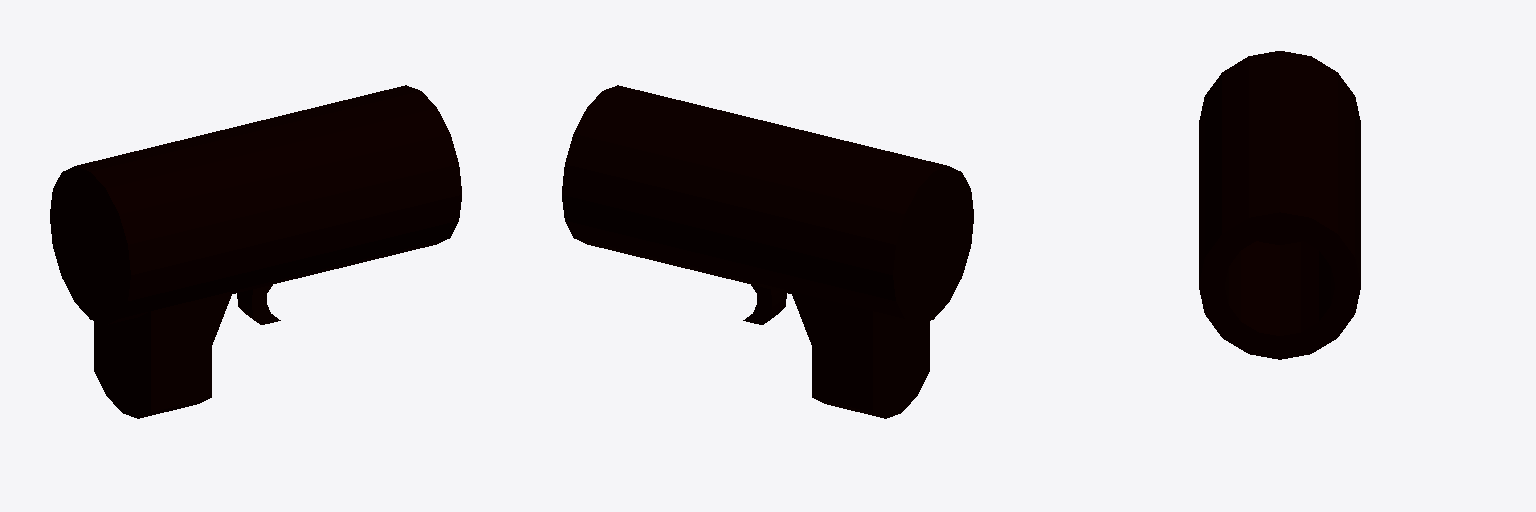
File: Pistol.obj
The picture shows the model from 3 angles: view 1: azimuth 30°, elevation 25°; view 2: azimuth 150°, elevation 25°; view 3: azimuth 270°, elevation 25°; orthographic projection.
Parts seen in each view (by area): view 1: Cylinder_Cylinder; view 2: Cylinder_Cylinder; view 3: Cylinder_Cylinder.
Boxes of the visible parts, box(x1,y1,x2,y2) form: Cylinder_Cylinder: box(50, 85, 461, 418); Cylinder_Cylinder: box(562, 85, 973, 418); Cylinder_Cylinder: box(1199, 51, 1360, 359).
Bounding box in the file's own units: 0.4697 × 0.3376 × 0.2.